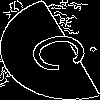C: (25, 25, 100, 76)
